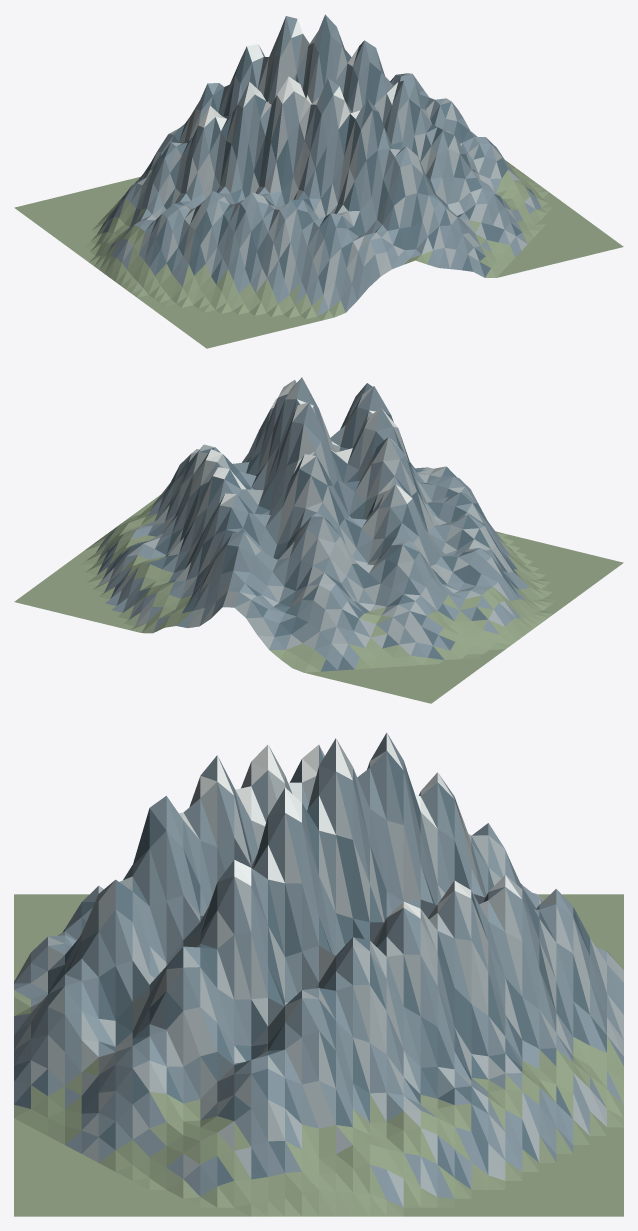
Rendered from ridge-2.glb.
3 views of the same model, one above another, from view 1: azimuth 30°, elevation 25°; view 2: azimuth 150°, elevation 25°; view 3: azimuth 270°, elevation 25° (orthographic). The views are drawn at different scales.
Visible parts, largest first — view 1: Mountain ridge.001; view 2: Mountain ridge.001; view 3: Mountain ridge.001.
Part boxes in pixels (x1=…): Mountain ridge.001: x1=14, y1=14, x2=623, y2=348; Mountain ridge.001: x1=14, y1=377, x2=623, y2=703; Mountain ridge.001: x1=14, y1=732, x2=623, y2=1216.
Bounding box in the file's own units: 300 × 142 × 240.
